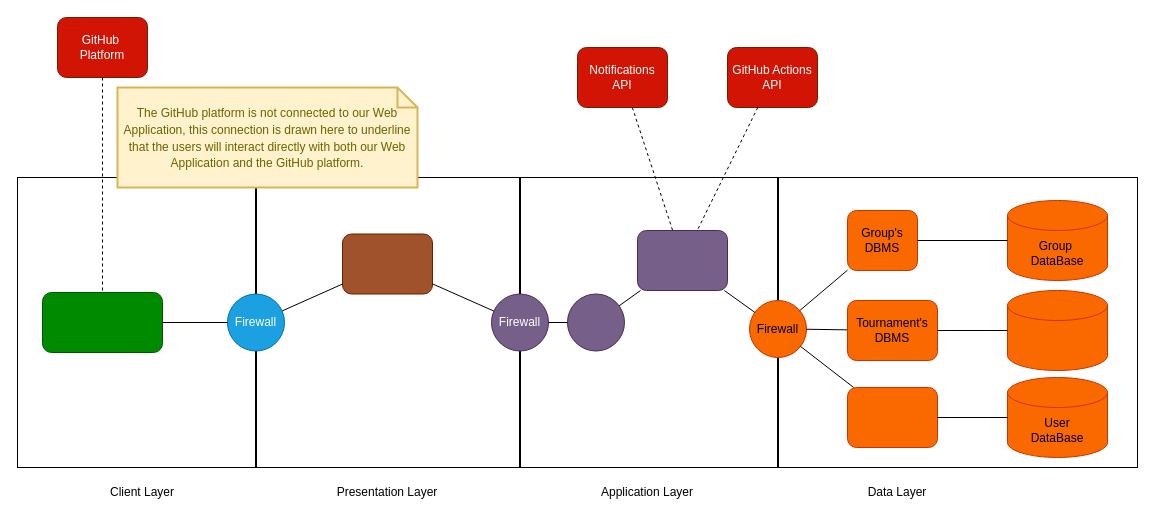
Image size: 1155x525. Some labels were removed from this diagram. The box of each missing label's shape, as (x1, y1, x2, y2) in pixels:
<Browser> Web Application: (42, 292, 162, 352)
Application Server: (636, 230, 728, 290)
Load Balancer: (566, 293, 624, 351)
Tournament DataBase: (1006, 290, 1108, 370)
User's DBMS: (846, 386, 938, 448)
Web Server: (342, 233, 432, 294)
